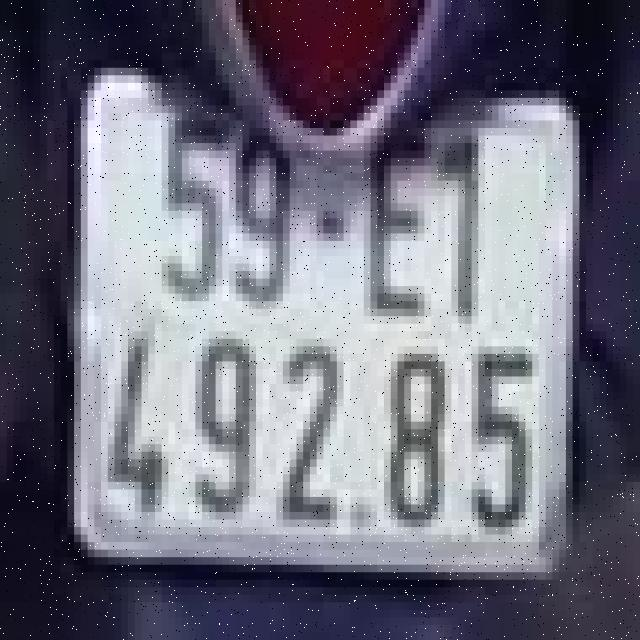1: (444, 116, 498, 328)
2: (270, 335, 350, 538)
4: (98, 312, 172, 531)
5: (465, 338, 546, 550), (158, 94, 226, 305)
8: (374, 350, 448, 546)
9: (178, 320, 260, 531), (232, 102, 300, 305)
E: (367, 117, 428, 335)
